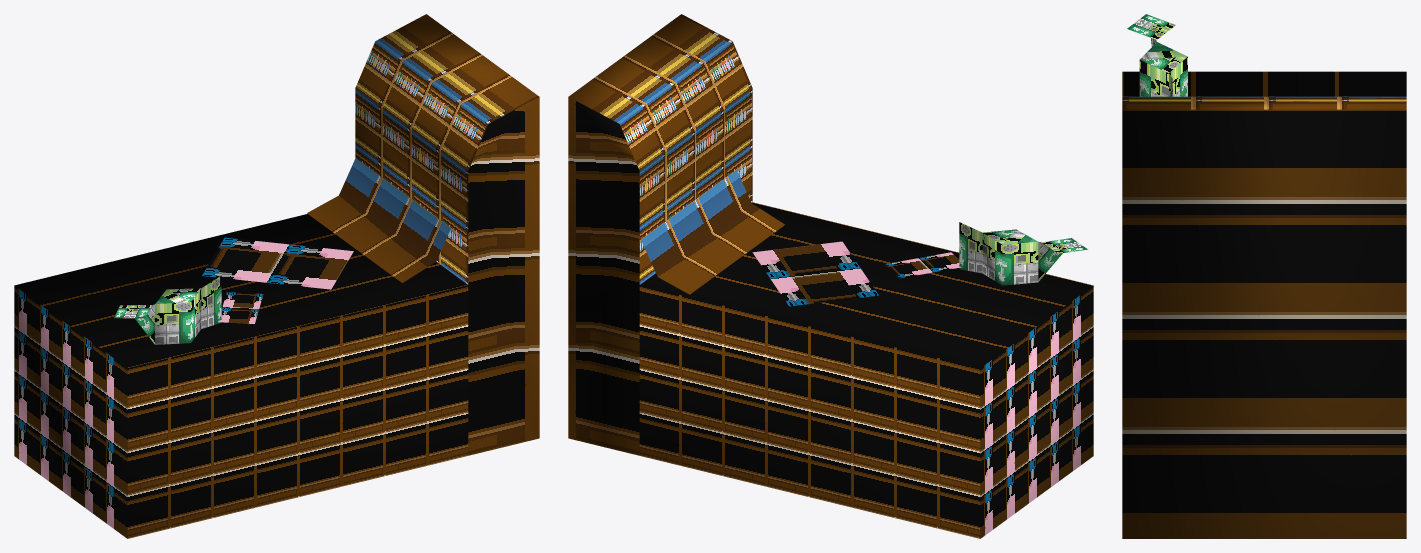
The picture shows the model from 3 angles, left to right: view 1: azimuth 30°, elevation 25°; view 2: azimuth 150°, elevation 25°; view 3: azimuth 270°, elevation 25°; orthographic projection. The views are drawn at different scales.
Visible parts, largest first — view 1: 3808kg_sh1_31; view 2: 3808kg_sh1_31; view 3: 3808kg_sh1_31.
Boxes of the visible parts, left/top/right/bottom form: 3808kg_sh1_31: left=14, top=14, right=539, bottom=538; 3808kg_sh1_31: left=568, top=14, right=1093, bottom=538; 3808kg_sh1_31: left=1122, top=14, right=1406, bottom=538.
Bounding box in the file's own units: 1.91 × 1.5 × 0.8999.
4 materials, 4 textured.
